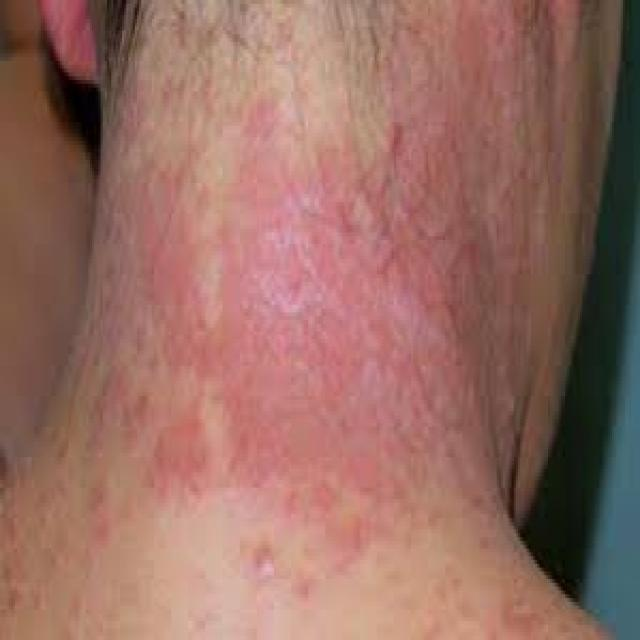Eczema: (111, 18, 520, 540)
